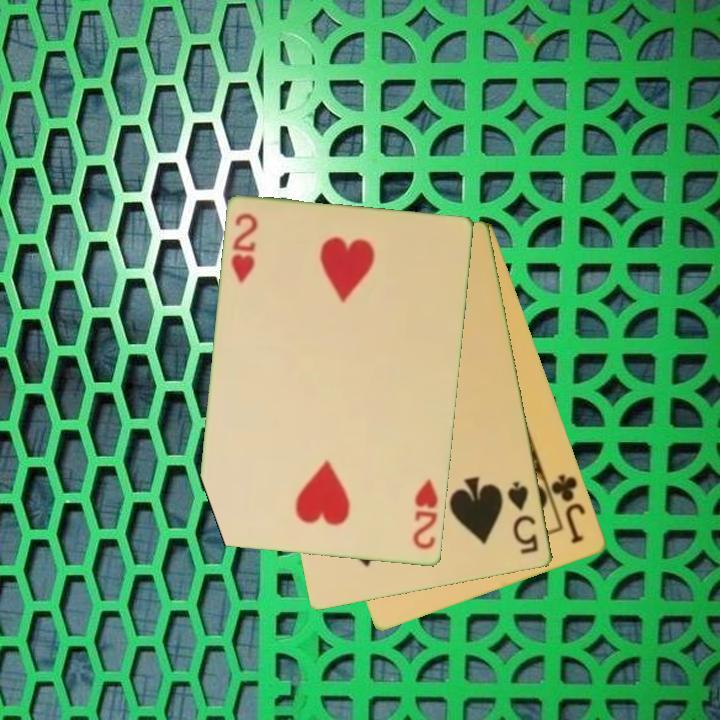2h: (228, 210, 261, 286), (409, 475, 441, 553)
5s: (504, 478, 542, 558)
Jc: (548, 470, 589, 548)
